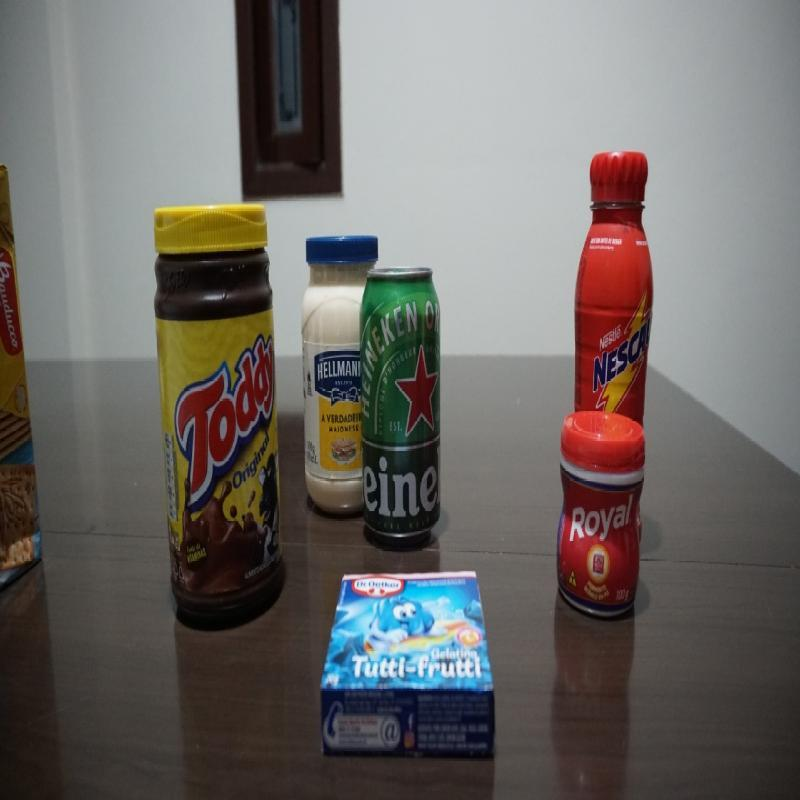Beer can: (358, 263, 444, 548)
Chocolate Milk: (572, 150, 658, 418)
Chocolate Powder: (152, 200, 287, 628)
Cracker: (1, 159, 46, 600)
Gelatine: (320, 573, 500, 755)
Mayonnaise: (299, 231, 382, 519)
Yeast: (554, 403, 649, 621)
